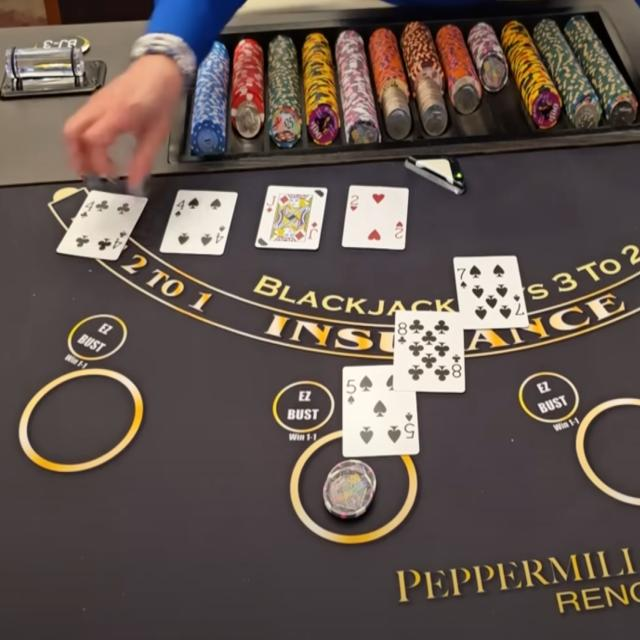2: (350, 194, 361, 206)
4: (84, 198, 95, 213), (176, 198, 186, 212)
5: (344, 376, 359, 396)
7: (456, 265, 468, 281)
8: (397, 320, 409, 337)
J: (266, 194, 276, 208)
